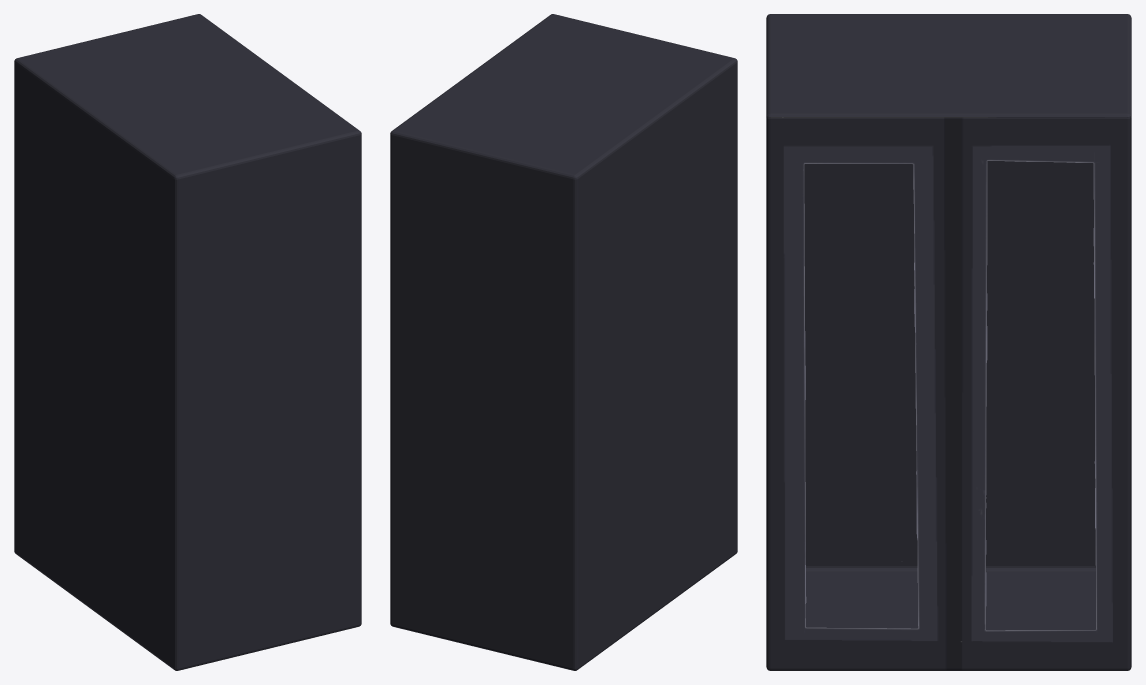
File: Server.fbx
3 renders of one model, left to right at view 1: azimuth 30°, elevation 25°; view 2: azimuth 150°, elevation 25°; view 3: azimuth 270°, elevation 25°, orthographic. The views are drawn at different scales.
Visible parts, largest first — view 1: big server; view 2: big server; view 3: big server.
Part boxes in pixels (x1,y1,x2,y2): big server: (14,14,361,670); big server: (390,14,737,670); big server: (766,14,1131,670).
Size of the model in its own units: 1.33 by 3.37 by 2.
